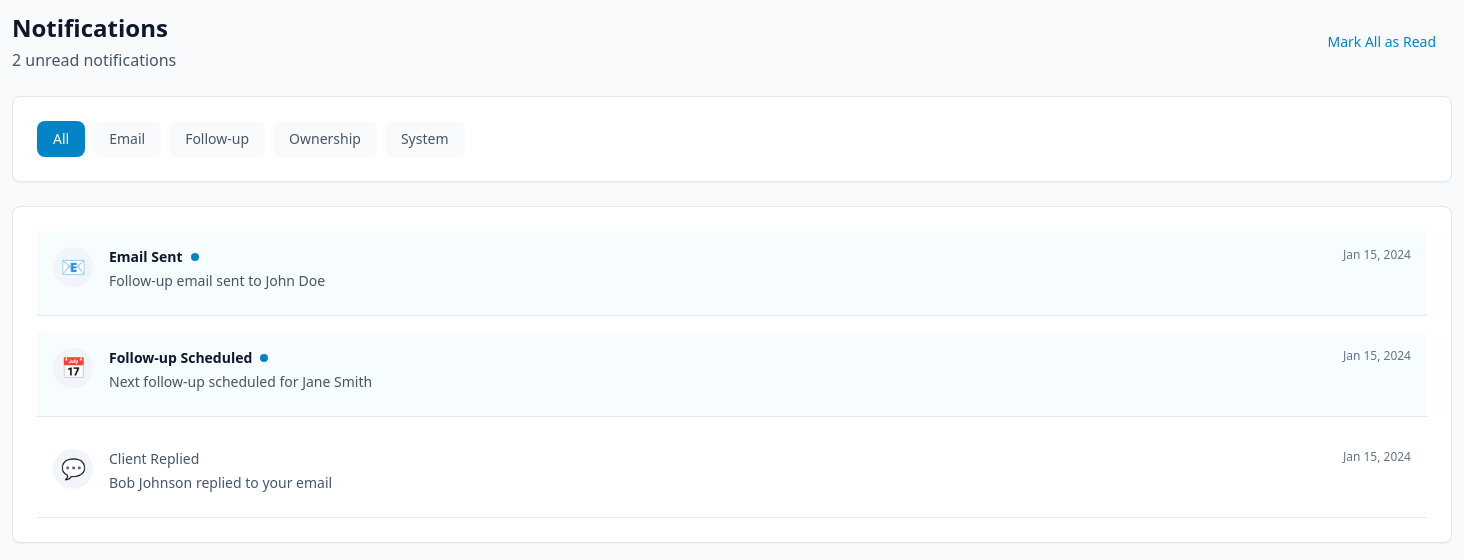
Test case: NotificationsLog › Filtering › filters notifications by category
Expected: the heading "Email Sent" is shown, [109,247,182,267]
Click the button "Email" at x=127, y=139, box [93,121,161,157]
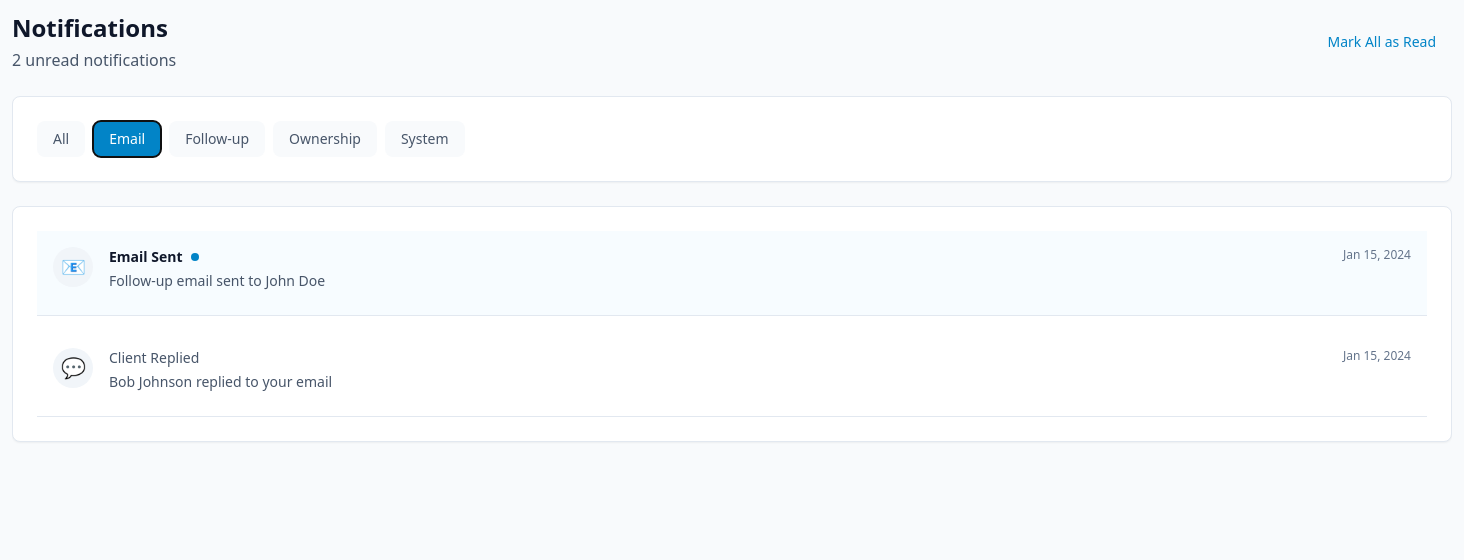
Expected: the heading "Email Sent" is shown, [109,247,182,267]
Now the heading "Follow-up Scheduled" is gone
